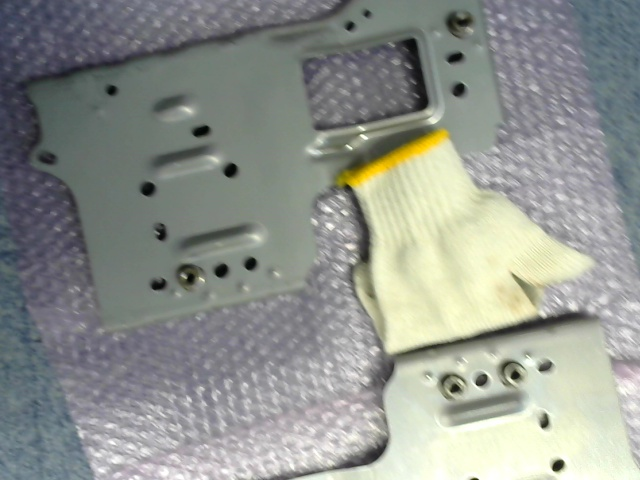dog: (447, 10, 476, 40), (176, 263, 204, 292), (502, 361, 526, 387)
